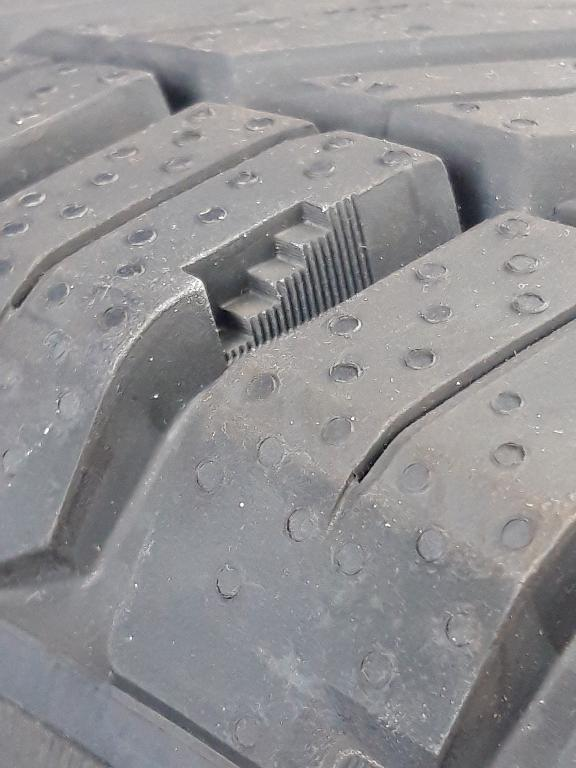temoin:100: (169, 181, 384, 378)
